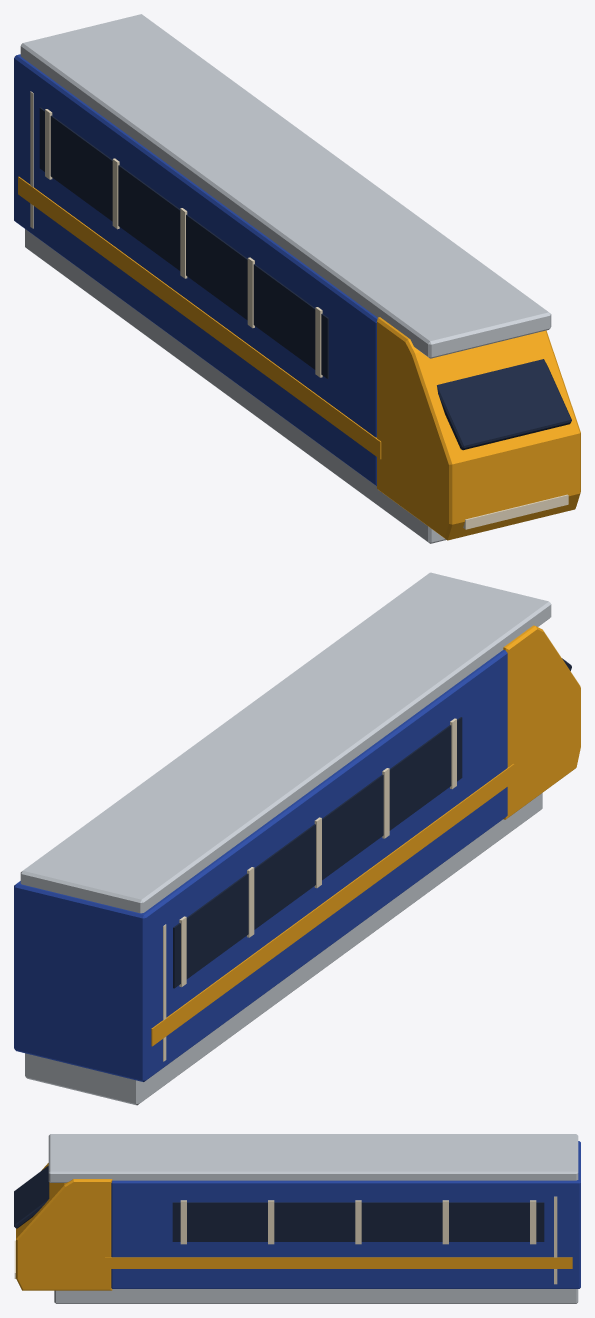
File: train_car.obj
3 views of the same model, one above another, from view 1: azimuth 30°, elevation 25°; view 2: azimuth 150°, elevation 25°; view 3: azimuth 270°, elevation 25° (orthographic). The views are drawn at different scales.
Parts seen in each view (by area): view 1: roof_panel, body_shell, nose_shell, window_band_l, windshield, chassis, stripe_l, nose_lip; view 2: body_shell, roof_panel, window_band_l, nose_shell, chassis, stripe_l; view 3: body_shell, roof_panel, window_band_r, nose_shell, chassis, stripe_r, windshield, mullion_r_2, mullion_r_0, mullion_r_1, mullion_r_3, mullion_r_4 (+1 smaller).
Part boxes in pixels (x1,y1,x2,y2): roof_panel: [20, 14, 551, 358]; body_shell: [14, 54, 377, 485]; nose_shell: [377, 317, 580, 540]; window_band_l: [39, 107, 328, 378]; windshield: [437, 359, 571, 450]; chassis: [25, 229, 446, 543]; stripe_l: [18, 176, 381, 459]; nose_lip: [463, 494, 568, 529]; body_shell: [14, 650, 507, 1081]; roof_panel: [20, 572, 551, 913]; window_band_l: [173, 717, 462, 988]; nose_shell: [503, 625, 580, 819]; chassis: [25, 793, 542, 1105]; stripe_l: [151, 764, 514, 1046]; body_shell: [111, 1141, 580, 1288]; roof_panel: [48, 1134, 578, 1182]; window_band_r: [172, 1202, 544, 1241]; nose_shell: [16, 1163, 112, 1290]; chassis: [54, 1289, 578, 1303]; stripe_r: [105, 1257, 572, 1268]; windshield: [14, 1166, 49, 1228]; mullion_r_2: [355, 1200, 361, 1244]; mullion_r_0: [530, 1200, 536, 1244]; mullion_r_1: [442, 1200, 448, 1244]; mullion_r_3: [268, 1200, 274, 1244]; mullion_r_4: [180, 1200, 186, 1244].
Bounding box in the file's own units: 1.8 × 2.6 × 10.
